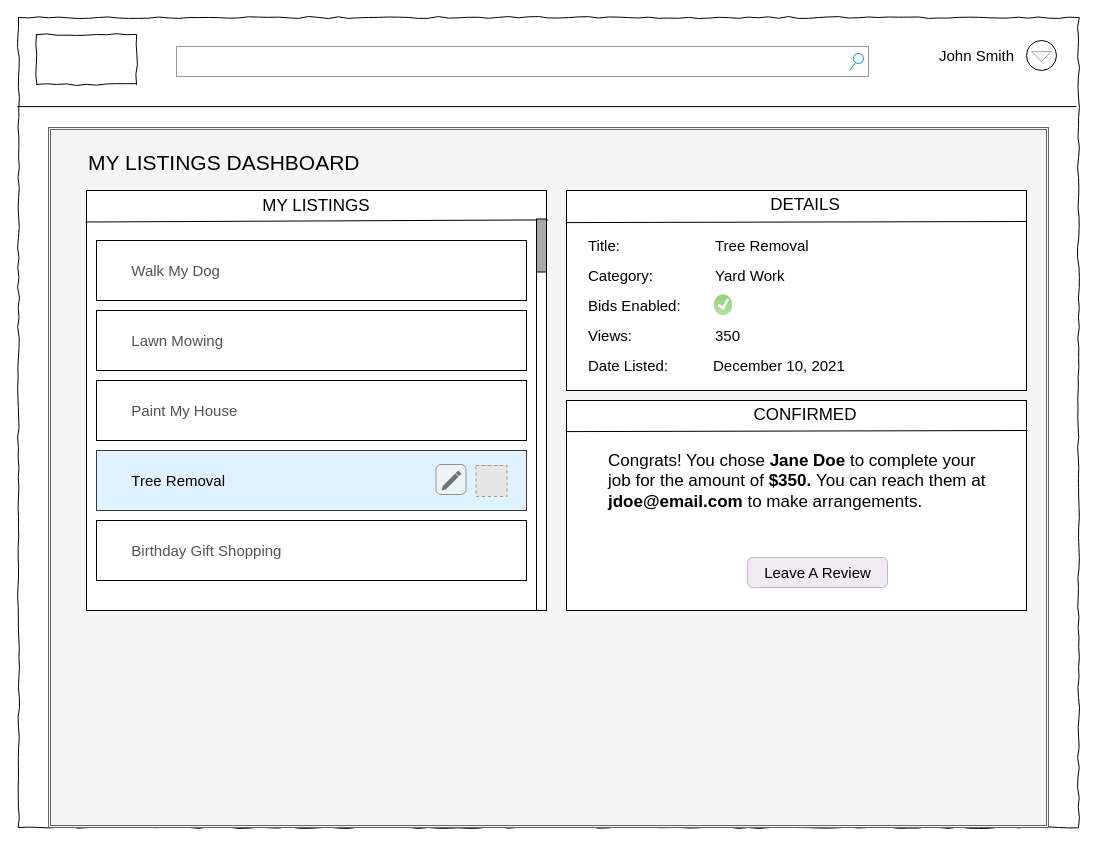
Some shapes in this 1097 by 845 pixel diagram are drawn without their labels. Grey dashed boxes stand in for pictures. Each missing label, with the centre of its shape:
LOGO: point (86, 59)
Search: point (522, 61)
